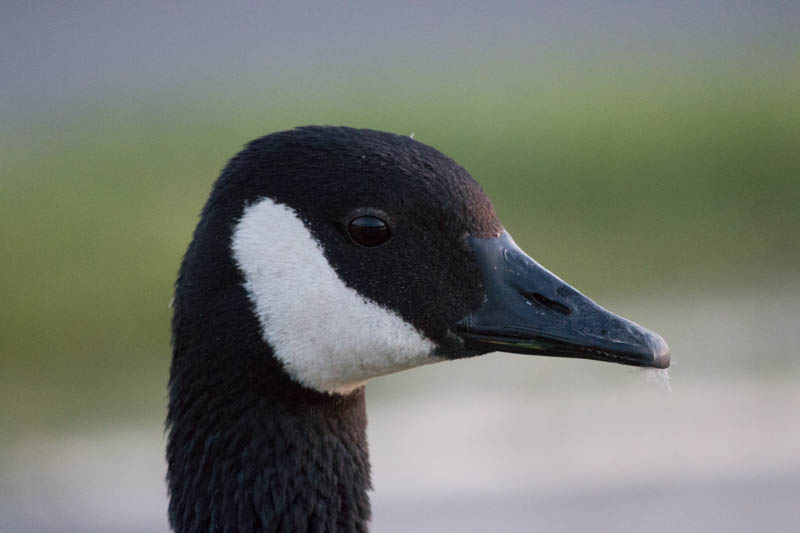goose-head: (167, 124, 672, 394)
